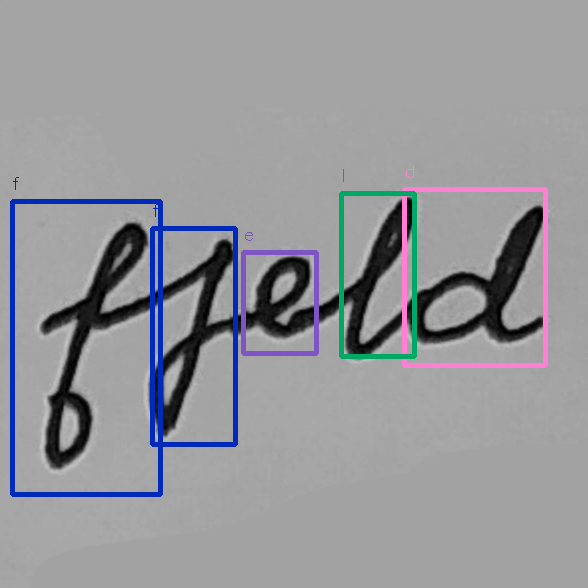d: (403, 201, 554, 349)
e: (248, 252, 319, 341)
f: (36, 218, 151, 472)
j: (145, 235, 237, 439)
l: (337, 193, 419, 362)
